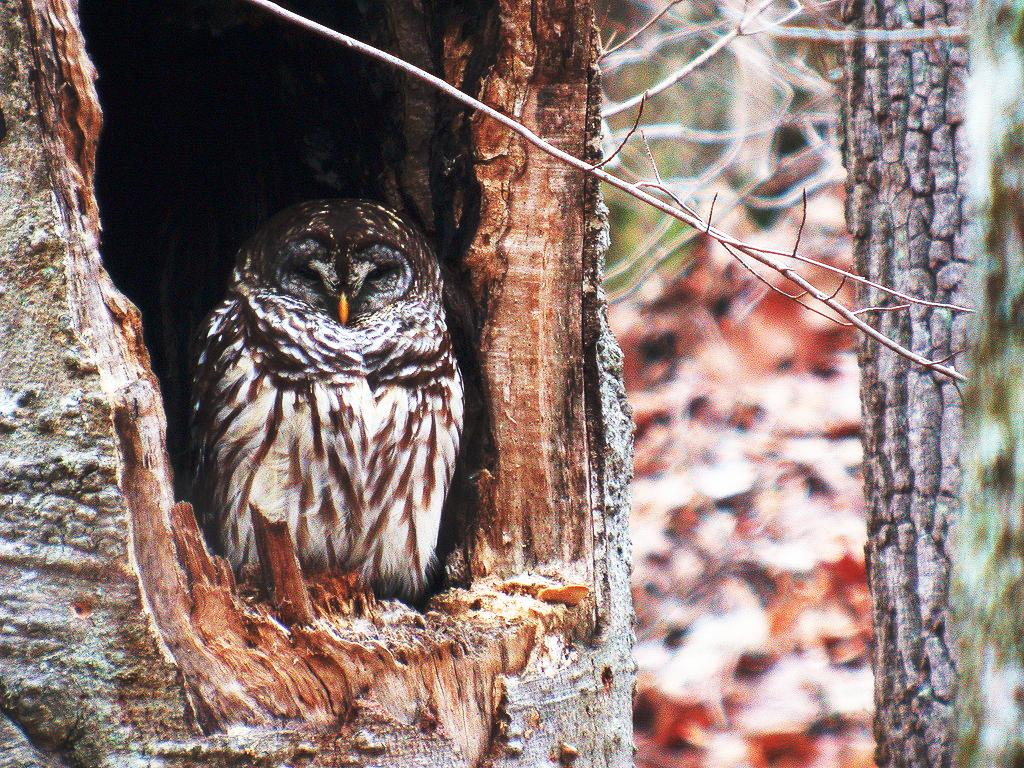Owl: (194, 192, 472, 626)
